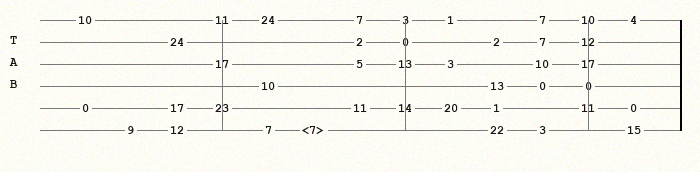0: (82, 102, 93, 114), (402, 36, 413, 48), (539, 80, 550, 92), (585, 80, 596, 92), (630, 102, 641, 114)
1: (447, 14, 458, 26), (493, 102, 504, 114)
10: (78, 14, 96, 26), (261, 80, 279, 92), (535, 58, 553, 70), (581, 14, 599, 26)
11: (215, 14, 233, 26), (353, 102, 371, 114), (581, 102, 599, 114)
12: (170, 124, 188, 136), (581, 36, 599, 48)
13: (398, 58, 416, 70), (490, 80, 508, 92)
14: (398, 102, 416, 114)
15: (627, 124, 645, 136)
17: (170, 102, 188, 114), (215, 58, 233, 70), (581, 58, 599, 70)
2: (356, 36, 367, 48), (493, 36, 504, 48)
20: (444, 102, 462, 114)
22: (490, 124, 508, 136)
23: (215, 102, 233, 114)
24: (170, 36, 188, 48), (261, 14, 279, 26)
3: (402, 14, 413, 26), (447, 58, 458, 70), (539, 124, 550, 136)
4: (630, 14, 641, 26)
5: (356, 58, 367, 70)
7: (265, 124, 276, 136), (356, 14, 367, 26), (539, 14, 550, 26), (539, 36, 550, 48)
9: (127, 124, 138, 136)
harmonic: (302, 124, 329, 136)
